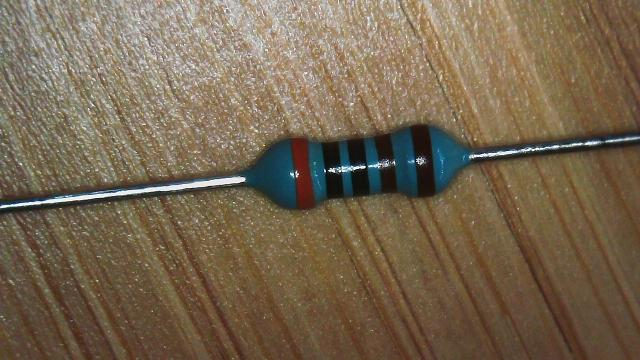black: (348, 138, 369, 195), (322, 142, 343, 198)
brown: (411, 125, 436, 197), (375, 135, 397, 192)
orange: (291, 138, 314, 209)
resistor: (240, 108, 474, 216)
